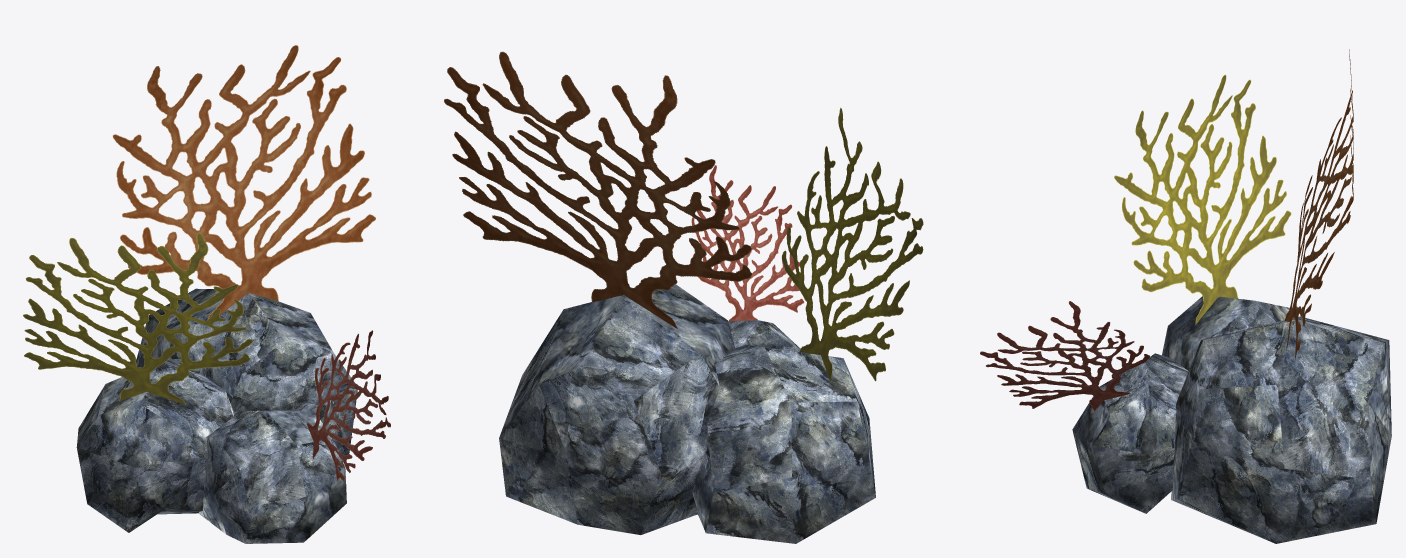
Rendered from corals.fbx.
The picture shows the model from 3 angles, left to right: view 1: azimuth 30°, elevation 25°; view 2: azimuth 150°, elevation 25°; view 3: azimuth 270°, elevation 25°; orthographic projection. The views are drawn at different scales.
Visible parts, largest first — view 1: Group4, Group3, Group2, Group1; view 2: Group4, Group3, Group2, Group1; view 3: Group4, Group2, Group1, Group3.
Part boxes in pixels (left/top/right/bottom): Group4: left=76, top=288, right=357, bottom=543; Group3: left=112, top=45, right=375, bottom=319; Group2: left=23, top=233, right=252, bottom=404; Group1: left=307, top=330, right=390, bottom=481; Group4: left=499, top=284, right=875, bottom=543; Group3: left=444, top=51, right=751, bottom=328; Group2: left=782, top=107, right=923, bottom=381; Group1: left=690, top=165, right=804, bottom=321; Group4: left=1072, top=296, right=1391, bottom=543; Group2: left=1114, top=75, right=1291, bottom=324; Group1: left=980, top=301, right=1149, bottom=411; Group3: left=1284, top=49, right=1353, bottom=359.
Bounding box in the file's own units: 1.36 × 1.36 × 1.22.
